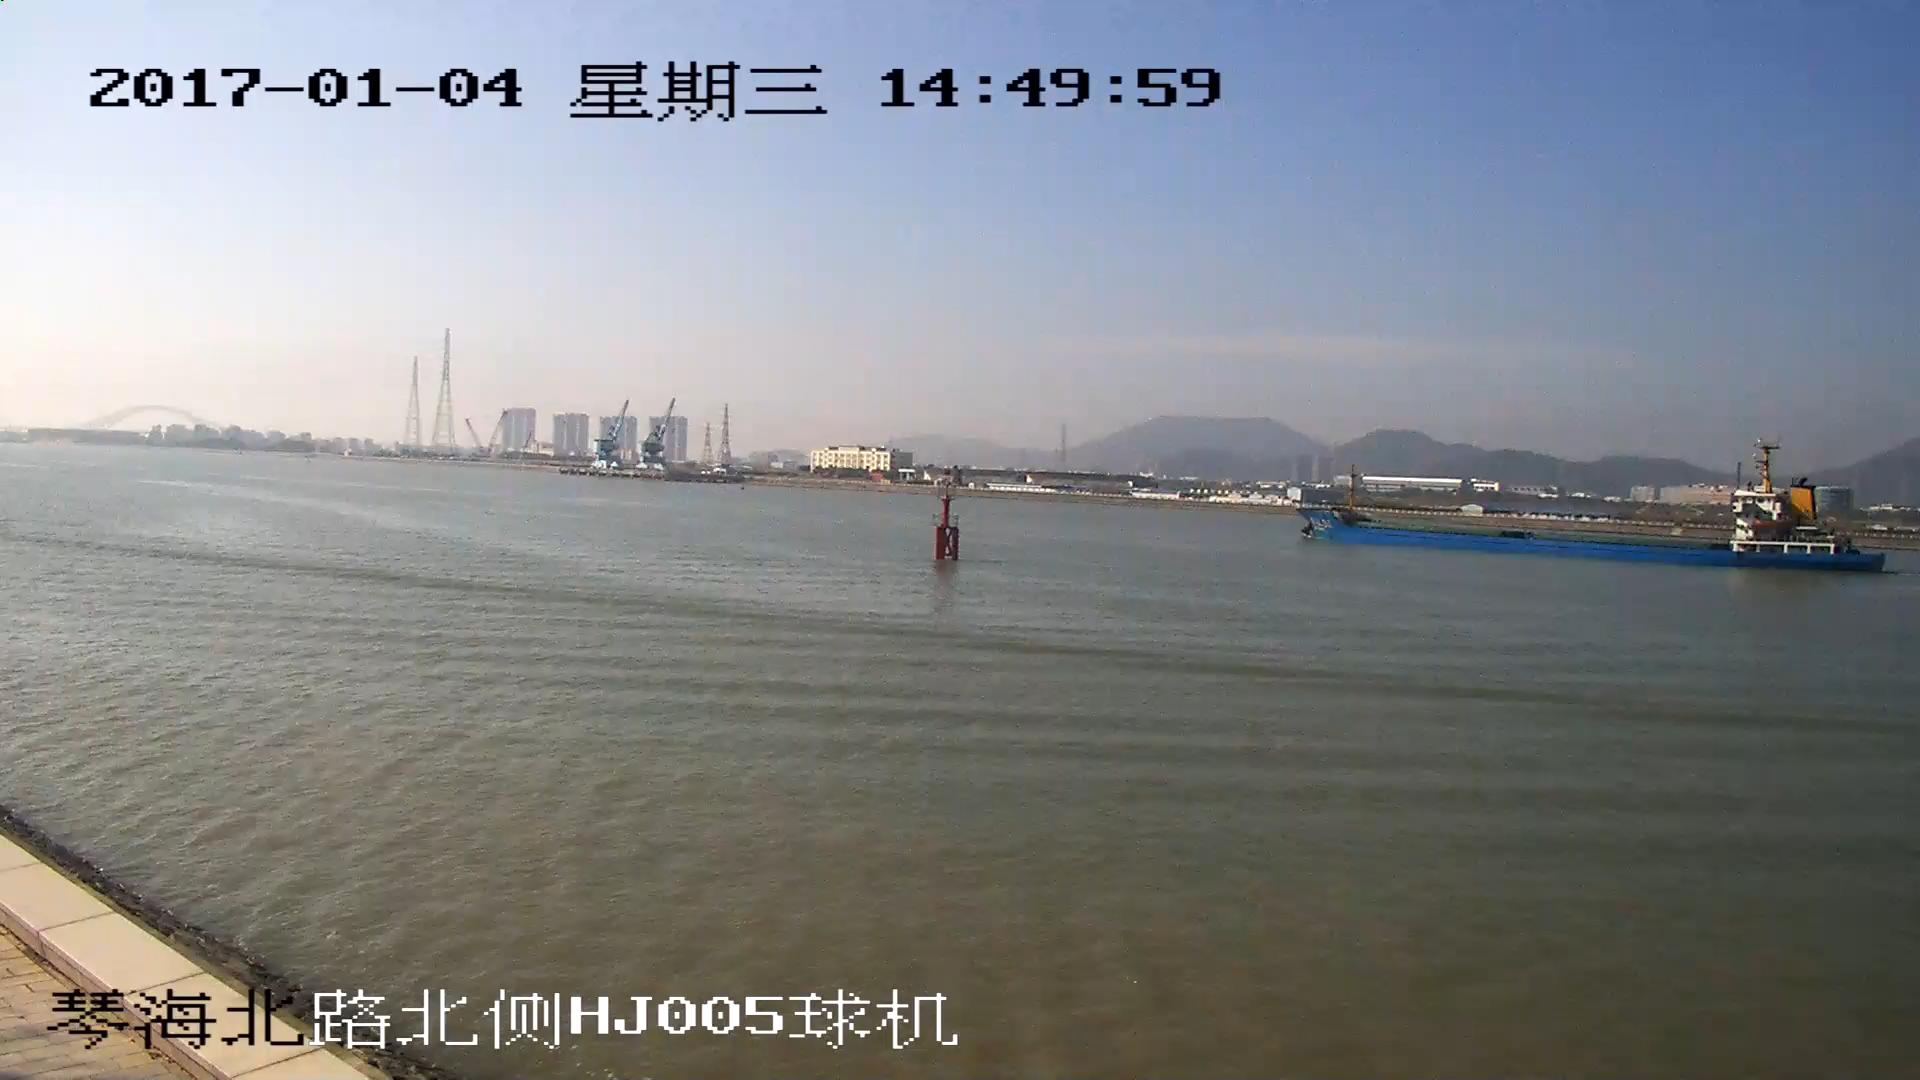general cargo ship: (1294, 440, 1885, 576)
